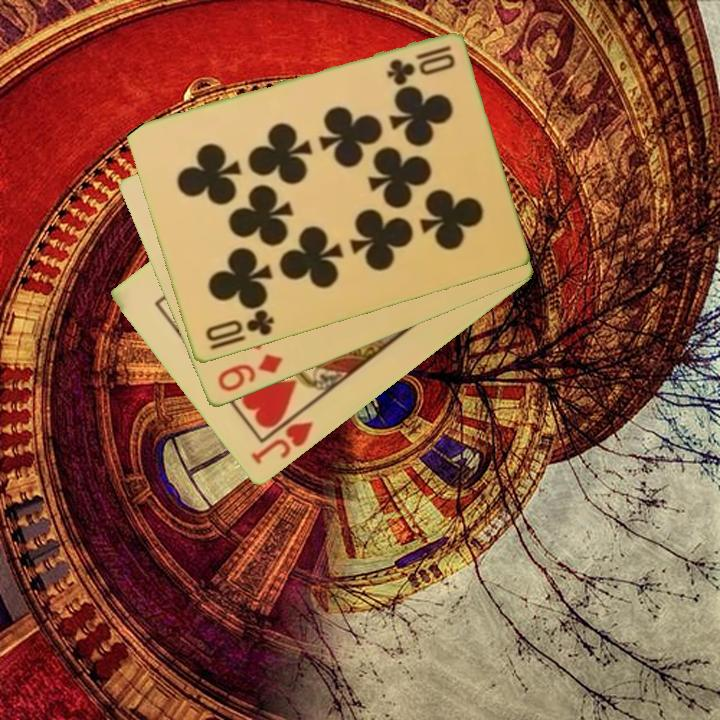10c: (202, 306, 277, 354), (383, 42, 458, 87)
9d: (214, 351, 285, 395)
Jh: (247, 418, 316, 468)
